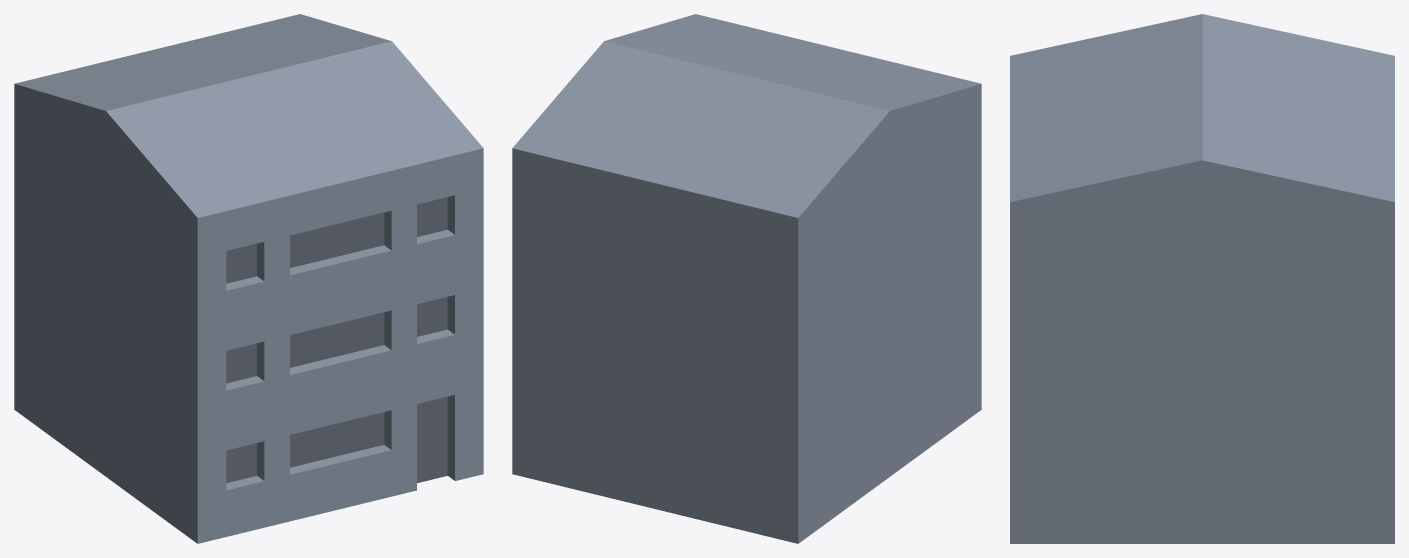
Rendered from binakapanacak4.gltf.
3 views of the same model, side by side, from view 1: azimuth 30°, elevation 25°; view 2: azimuth 150°, elevation 25°; view 3: azimuth 270°, elevation 25° (orthographic). The views are drawn at different scales.
Visible parts, largest first — view 1: Building_051.010, Building_051.014, Building_051.015; view 2: Building_051.010; view 3: Building_051.010.
Boxes of the visible parts, x1,y1,x2,y2 form: Building_051.010: [14, 14, 483, 543]; Building_051.014: [226, 197, 447, 483]; Building_051.015: [417, 396, 447, 483]; Building_051.010: [512, 14, 981, 543]; Building_051.010: [1010, 14, 1394, 543].
Size of the model in its own units: 0.0489 by 0.0598 by 0.0543.
